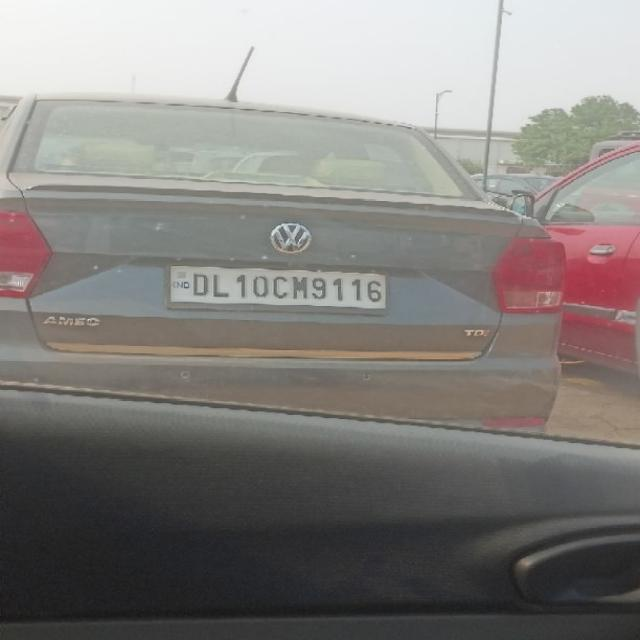license_plate: (164, 263, 389, 312)
